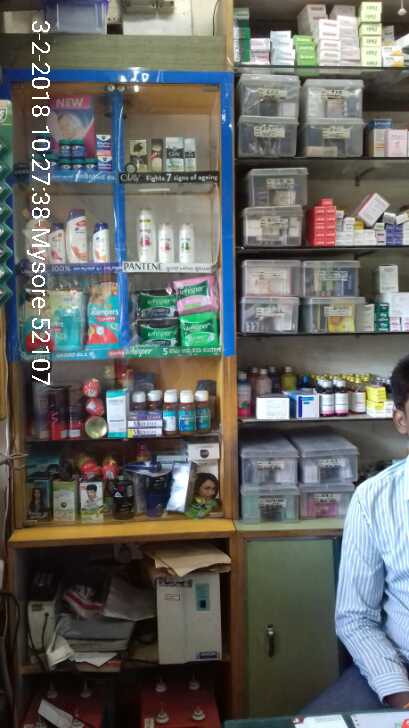beauty: (64, 207, 89, 263), (138, 208, 156, 264), (89, 218, 109, 263), (156, 221, 173, 263), (179, 220, 195, 264), (165, 135, 183, 171), (50, 221, 64, 263), (129, 140, 147, 170), (148, 137, 161, 174), (183, 138, 197, 171)
pharmacy: (48, 286, 85, 352), (85, 277, 118, 345), (180, 310, 220, 349), (177, 272, 217, 309), (134, 316, 175, 348), (137, 286, 174, 315), (72, 154, 97, 172), (95, 133, 111, 155), (96, 154, 112, 173), (56, 138, 73, 154), (71, 135, 82, 157)
